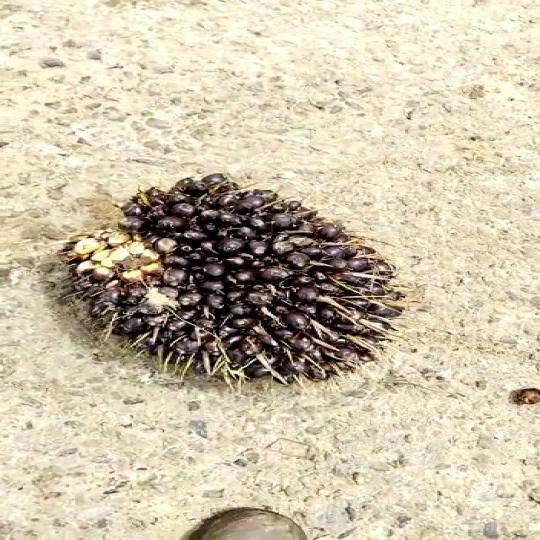mentah: (41, 159, 473, 390)
